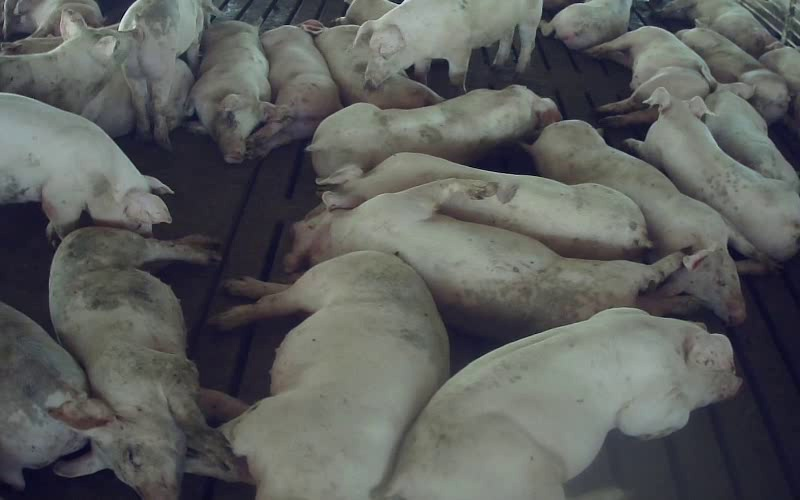pig: (381, 308, 740, 499), (211, 251, 448, 499), (51, 227, 244, 499), (528, 120, 770, 324), (319, 153, 650, 259), (626, 88, 799, 260), (307, 85, 560, 178), (355, 0, 542, 92), (0, 10, 132, 113), (585, 26, 716, 126), (246, 25, 341, 158), (301, 20, 443, 108), (189, 21, 270, 163), (677, 27, 789, 122), (704, 82, 799, 191)
